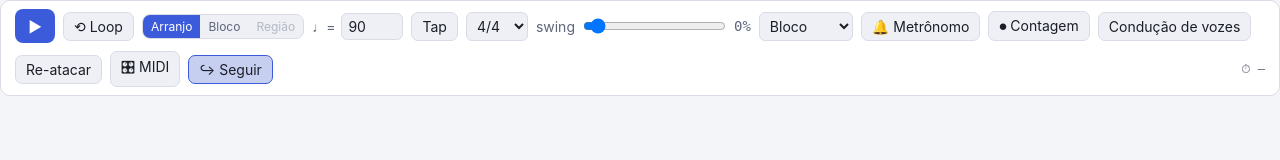
Scenario: condução de vozes e re-ataque › os toggles alternam song.voiceLeading e song.reattack
Later steps or results of the test are not shown.
Click the button "Condução de vozes". click: (1175, 26)
box: [1098,12,1251,40]
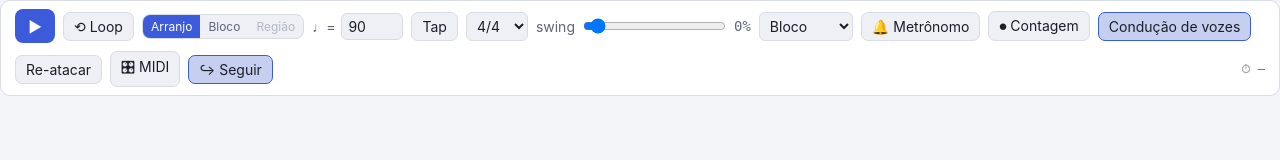
expect the button "Condução de vozes" is pressed: met, box [1098,12,1251,40]
